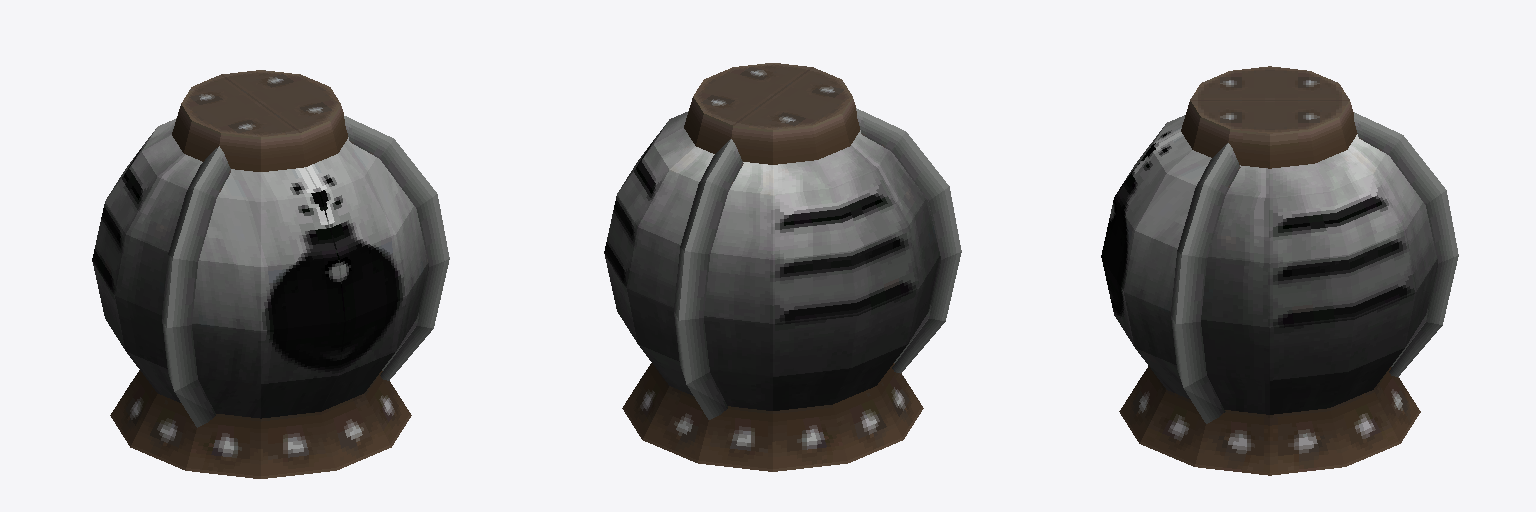
3 views of the same model, side by side, from view 1: azimuth 30°, elevation 25°; view 2: azimuth 150°, elevation 25°; view 3: azimuth 270°, elevation 25° (orthographic).
Parts seen in each view (by area): view 1: Object01; view 2: Object01; view 3: Object01.
Part boxes in pixels (x1,y1,x2,y2): Object01: (92, 70, 449, 478); Object01: (604, 63, 961, 471); Object01: (1101, 66, 1458, 475).
Bounding box in the file's own units: 23.55 × 24 × 24.94.
1 materials, 1 textured.